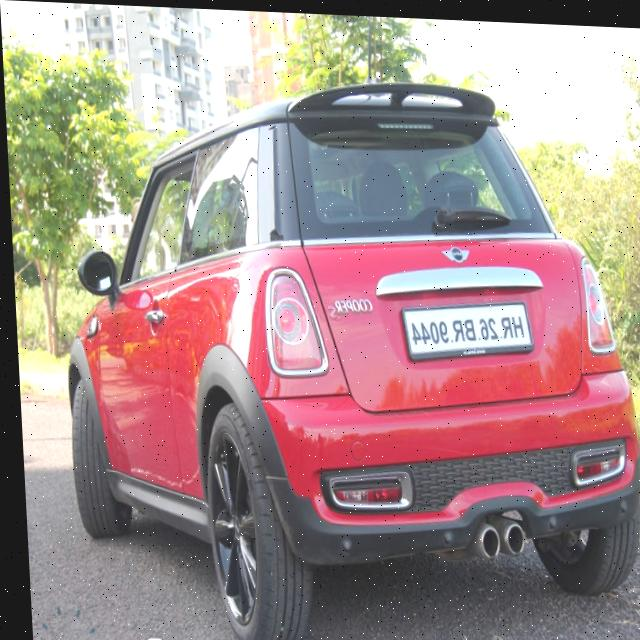plate: (396, 290, 534, 365)
